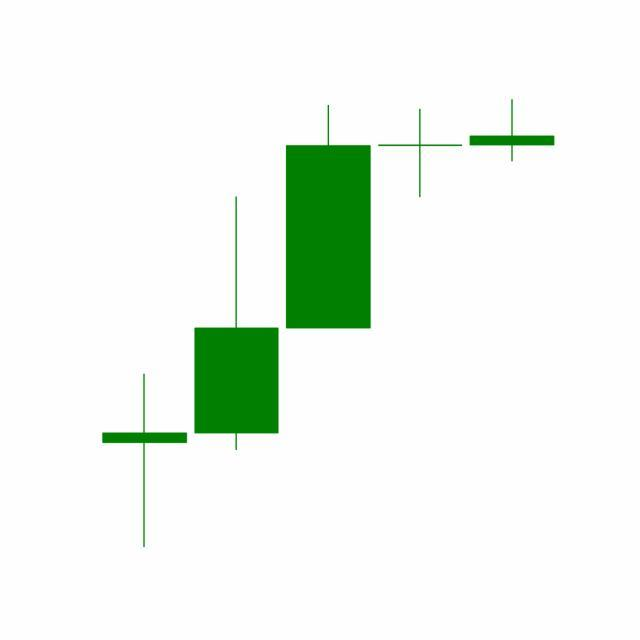Spinning Top: (466, 98, 559, 163)
